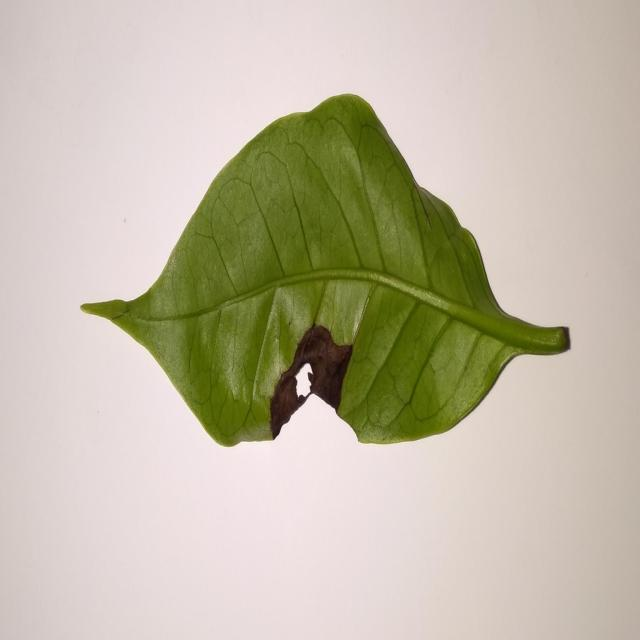Enfermedad-Antracnosis: (79, 94, 572, 451)
